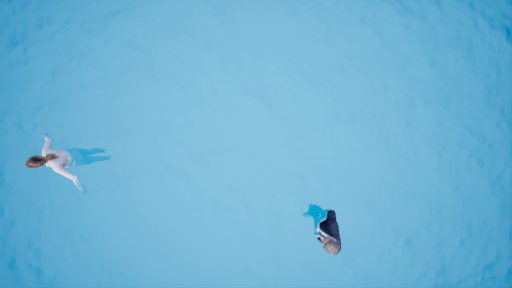person: (25, 126, 118, 195), (297, 200, 347, 259)
